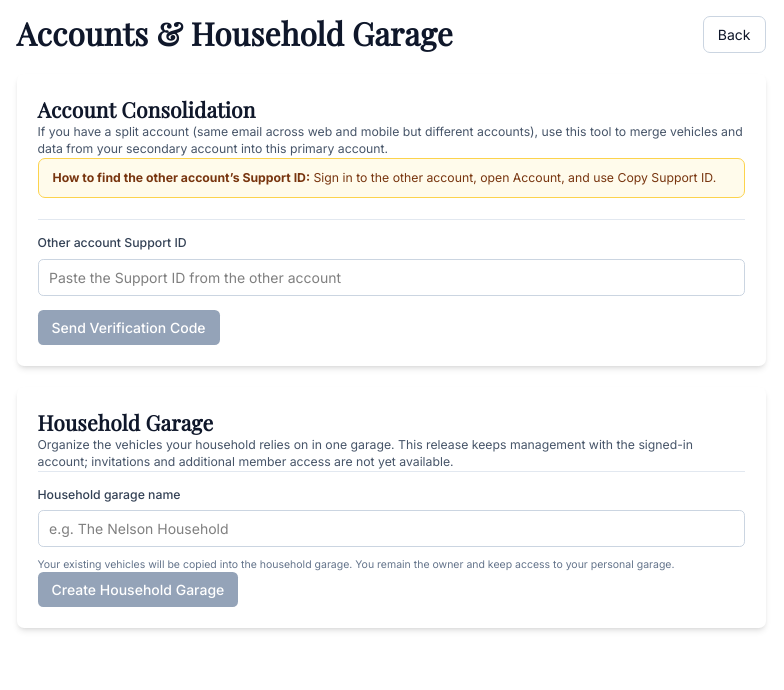
Test: AccountConsolidation – account merge › shows consolidation results after a successful account merge
This screenshot has width=784, height=690.
Type "source-user-2" into the field labelled "Other account Support ID" at (391, 277), box [38,258,744,296]
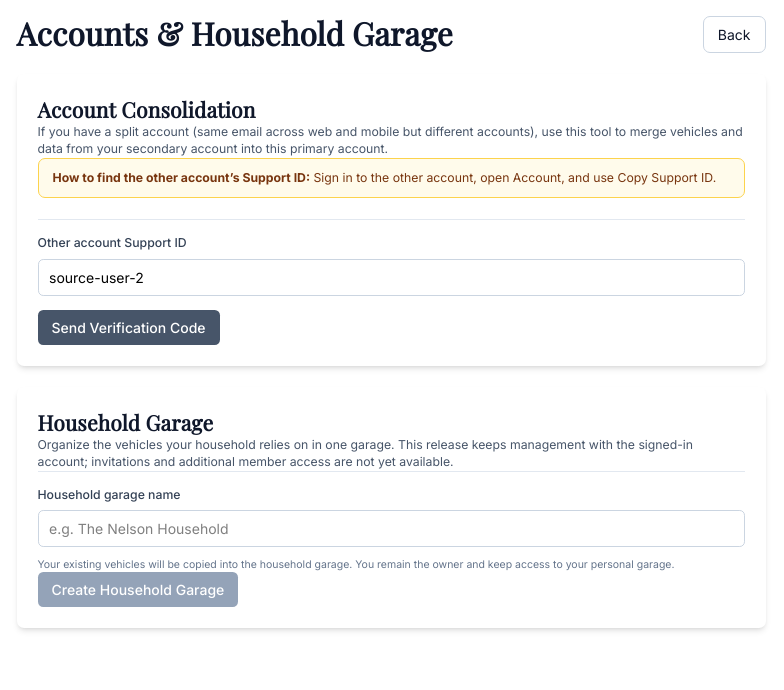
Click the button "Send Verification Code" at (129, 327), box [38,310,220,344]
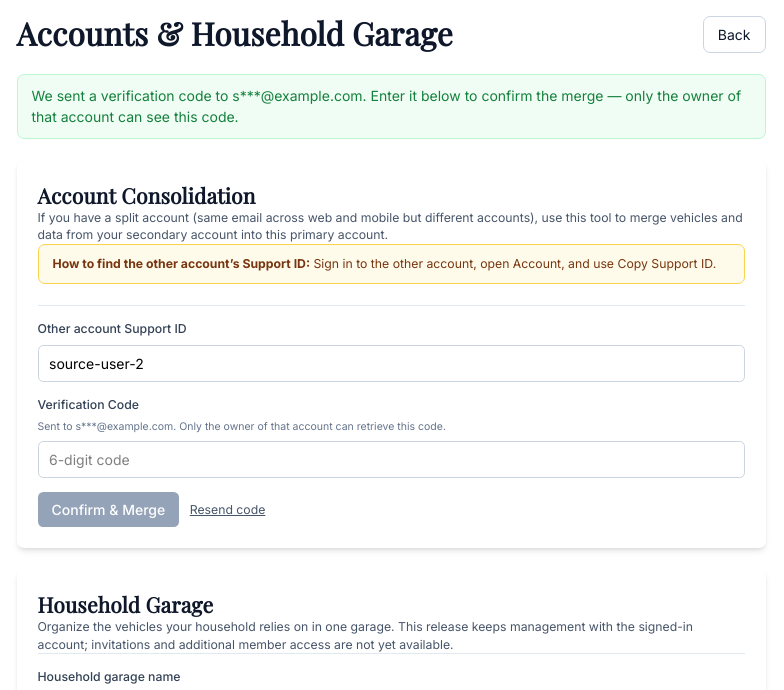
Type "123456" into the field labelled "Verification Code" at (391, 460), box [38,441,744,478]
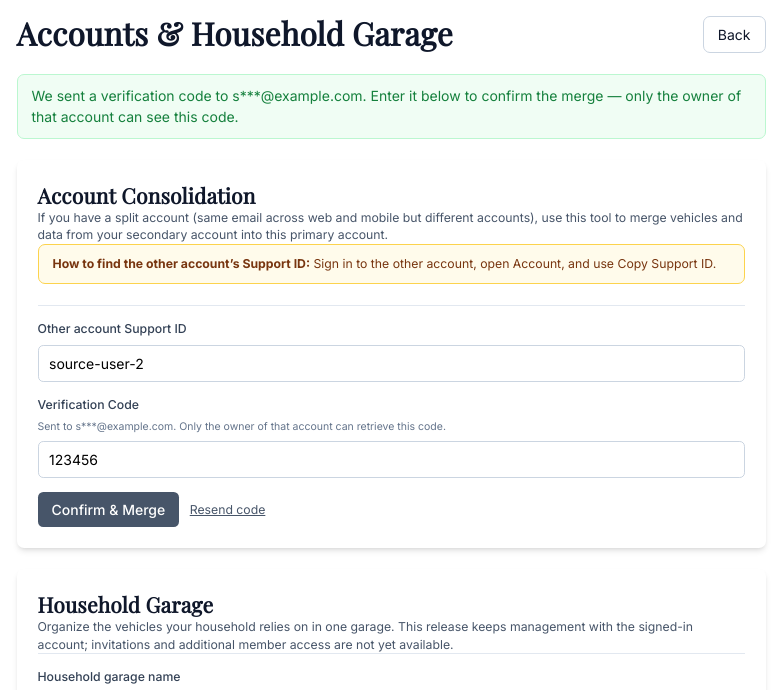
Click the button "Confirm & Merge" at (108, 510), box [38,492,179,527]
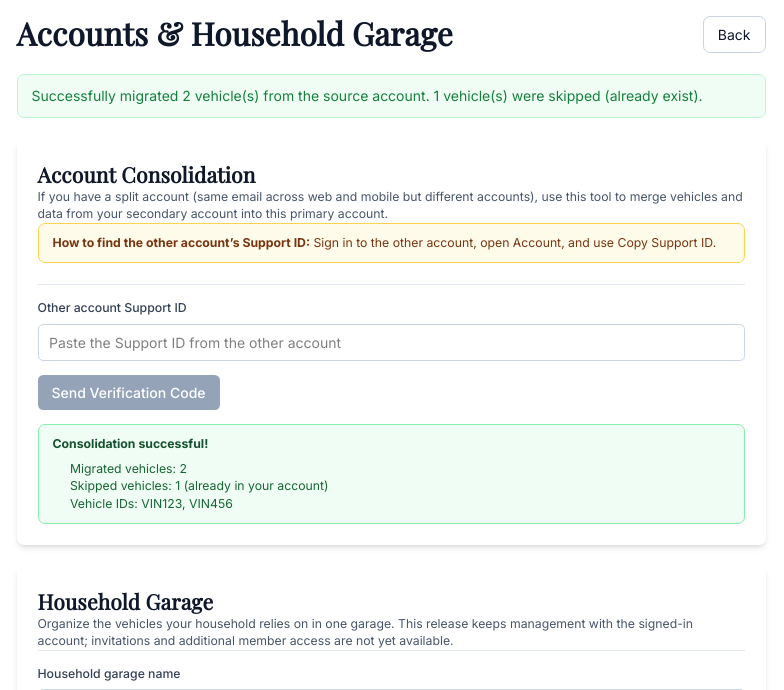
Check: the text "Consolidation successful!" is shown, box [52,436,208,451]
Check: the text "Successfully migrated 2 vehicle(s) from the source account" is shown, box [32,87,702,104]
Check: the list item "Migrated vehicles: 2" is shown, box [70,460,187,476]
